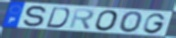D: (45, 6, 72, 29)
G: (142, 13, 167, 35)
O: (94, 9, 120, 32), (118, 11, 144, 34)
R: (68, 8, 97, 31)
S: (21, 5, 48, 28)
